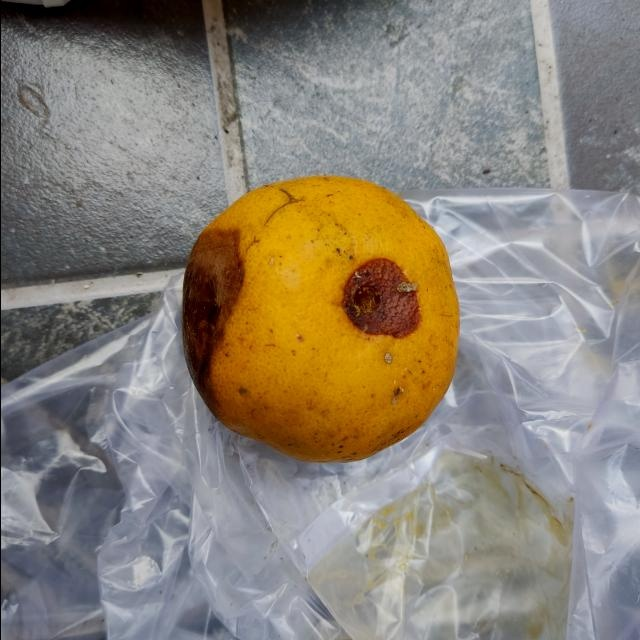agrume: (176, 168, 464, 465)
